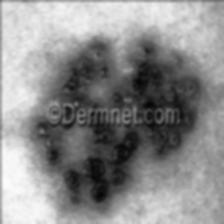Toxin: (128, 60, 160, 97), (82, 148, 116, 178)
